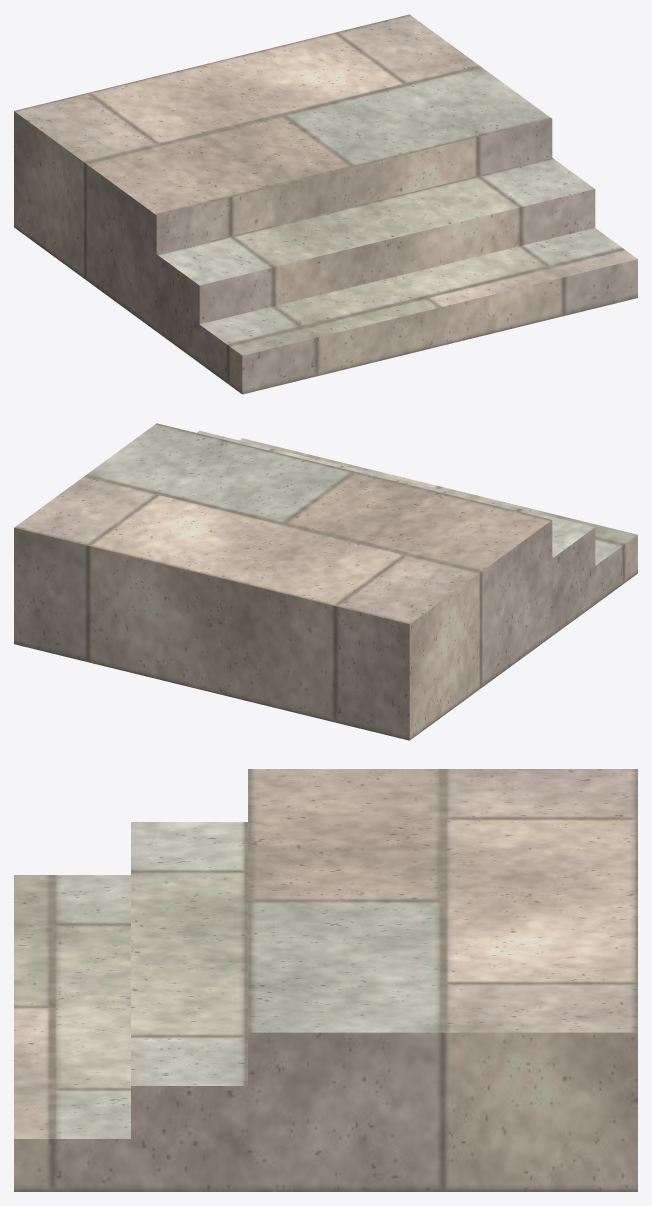
File: side_steps.glb
3 renders of one model, top to bottom at view 1: azimuth 30°, elevation 25°; view 2: azimuth 150°, elevation 25°; view 3: azimuth 270°, elevation 25°, orthographic. The views are drawn at different scales.
Visible parts, largest first — view 1: side_steps_stone; view 2: side_steps_stone; view 3: side_steps_stone.
Part boxes in pixels (x1=…): side_steps_stone: x1=14, y1=14, x2=637, y2=394; side_steps_stone: x1=14, y1=423, x2=637, y2=740; side_steps_stone: x1=14, y1=769, x2=637, y2=1191.
Bounding box in the file's own units: 1.6 × 0.45 × 1.6.
Materials: 1 (1 with a texture image).
